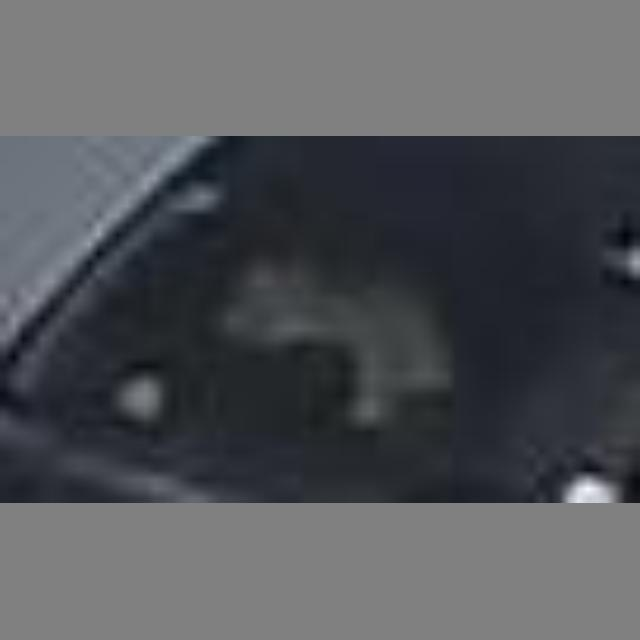tidak-pakai: (207, 230, 471, 447)
